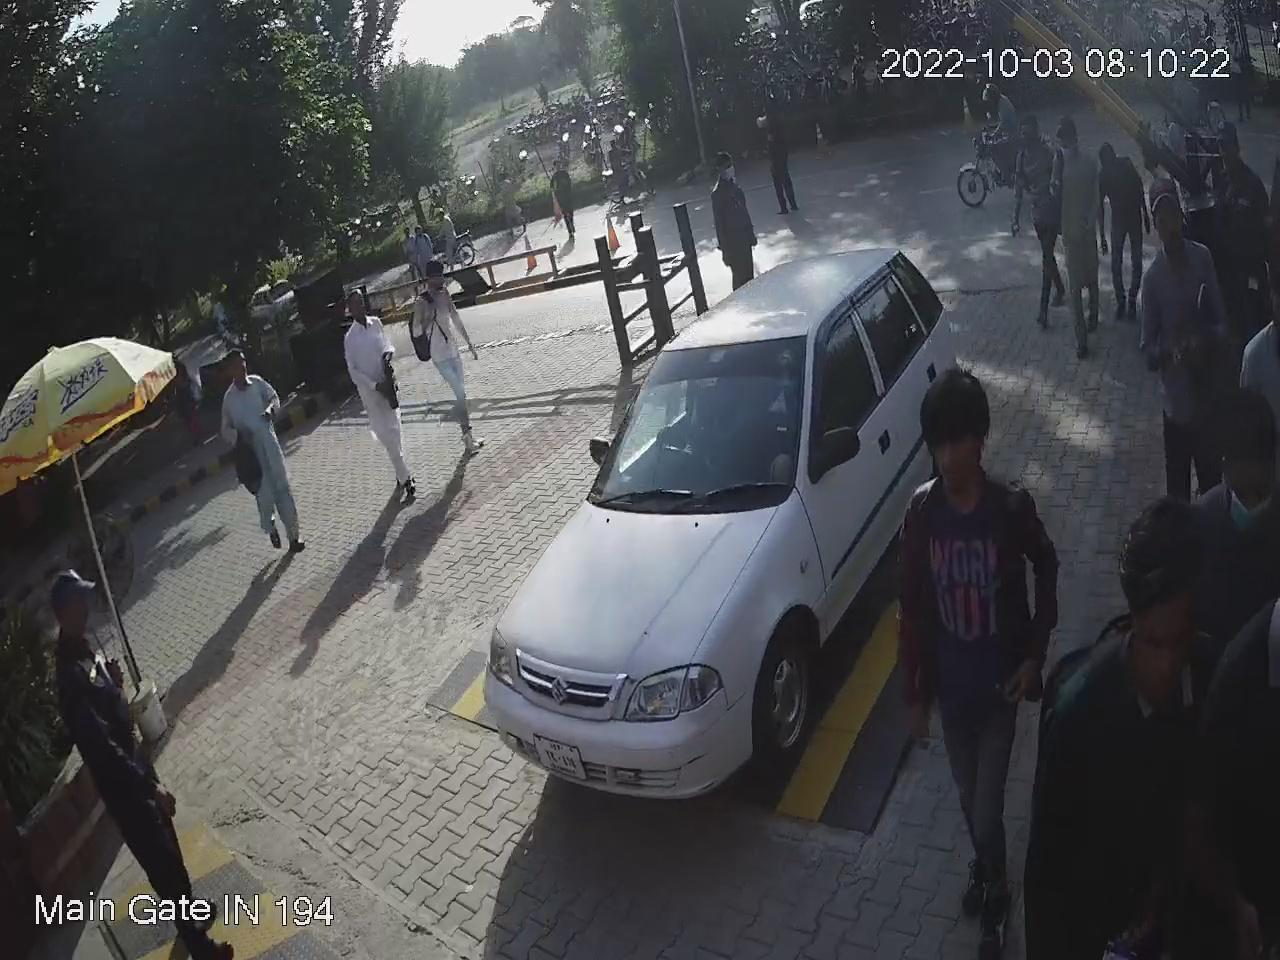windshield: (588, 328, 818, 523)
